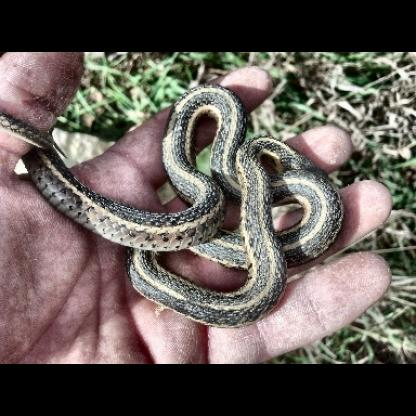Snake: (8, 73, 404, 327)
